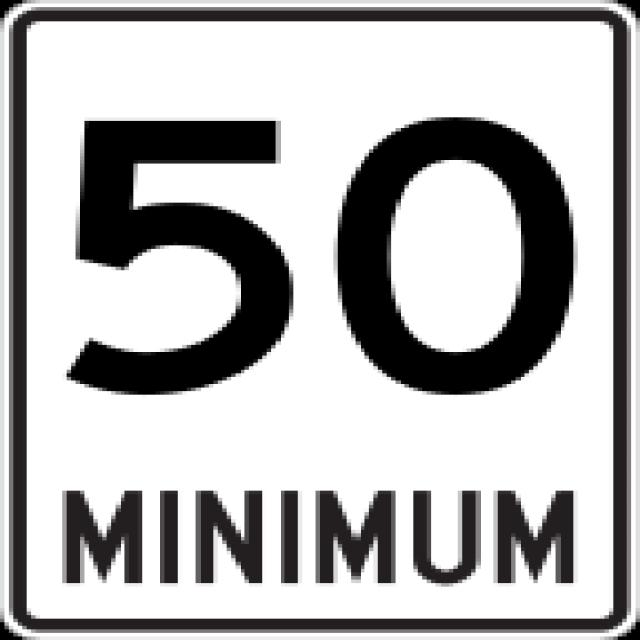Speed Limit -50-: (51, 56, 594, 428)
